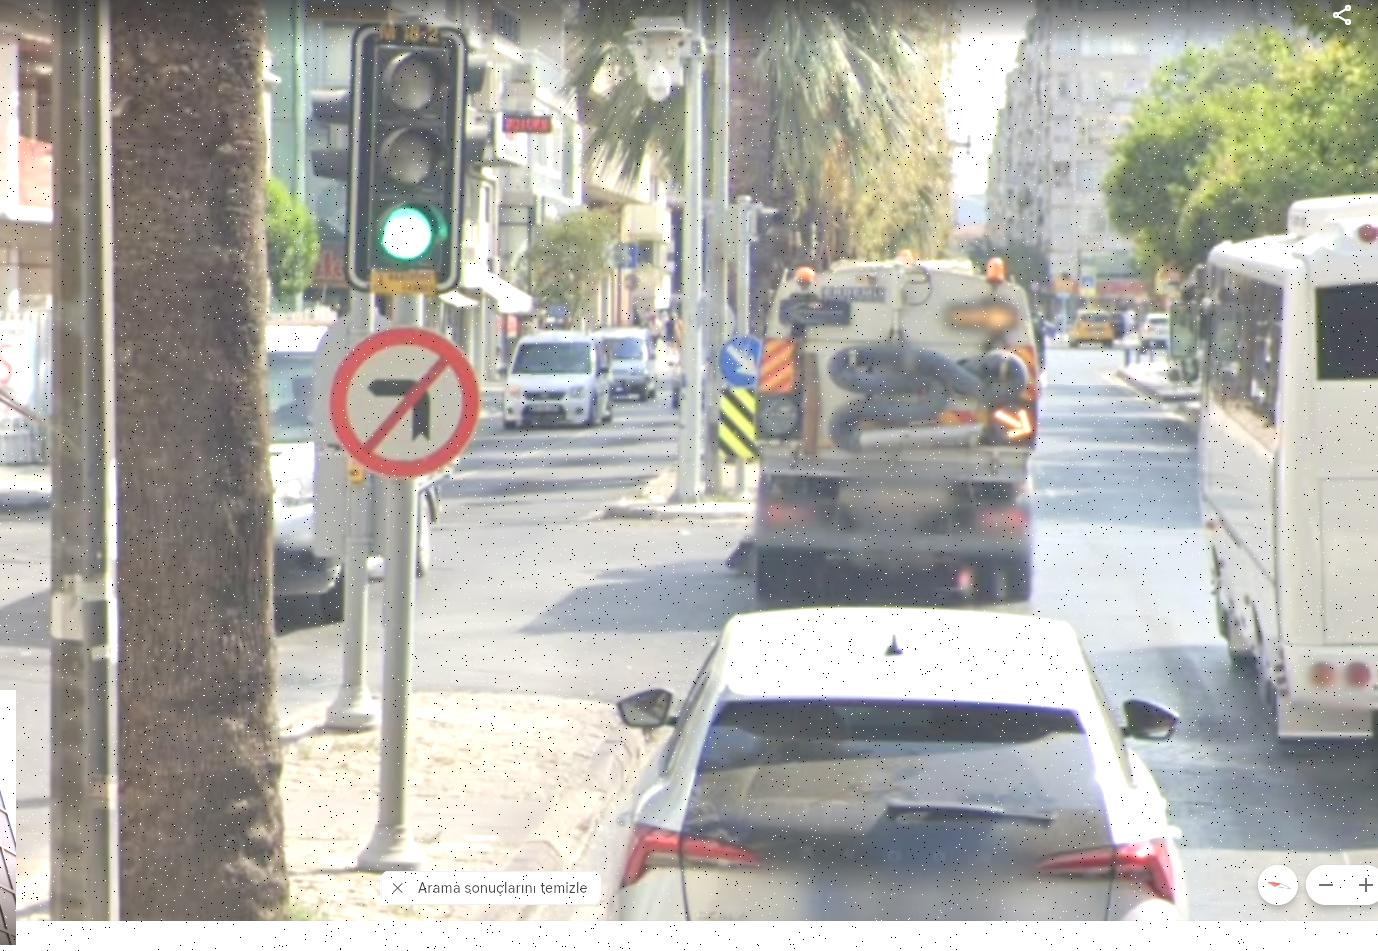greenlight: (350, 36, 454, 286)
leftturnsareforbidden: (336, 327, 483, 472)
